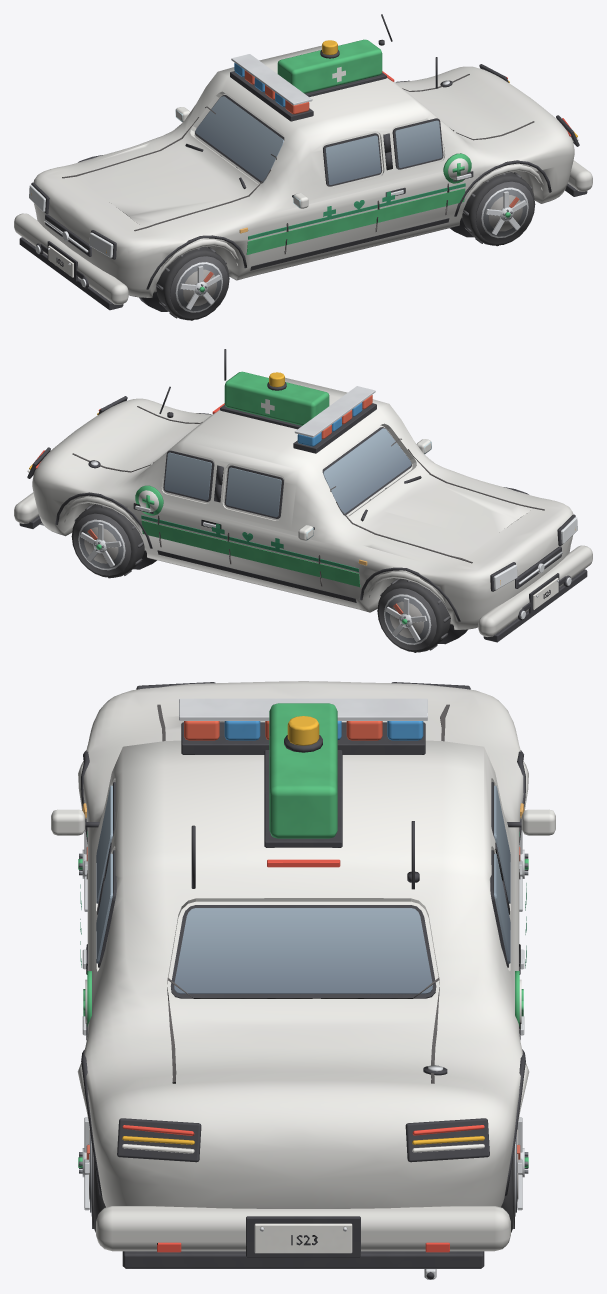
The model's file is Vigilancia_Car.fbx.
The picture shows the model from 3 angles, top to bottom: view 1: azimuth 30°, elevation 25°; view 2: azimuth 150°, elevation 25°; view 3: azimuth 270°, elevation 25°; orthographic projection. The views are drawn at different scales.
Visible parts, largest first — view 1: Vigilancia_Car; view 2: Vigilancia_Car; view 3: Vigilancia_Car.
Boxes of the visible parts, box(x1,y1,x2,y2) form: Vigilancia_Car: box(14, 14, 592, 320); Vigilancia_Car: box(14, 349, 592, 652); Vigilancia_Car: box(51, 681, 555, 1279).
Size of the model in its own units: 4.63 by 1.82 by 2.07.
Materials: 1 (1 with a texture image).
